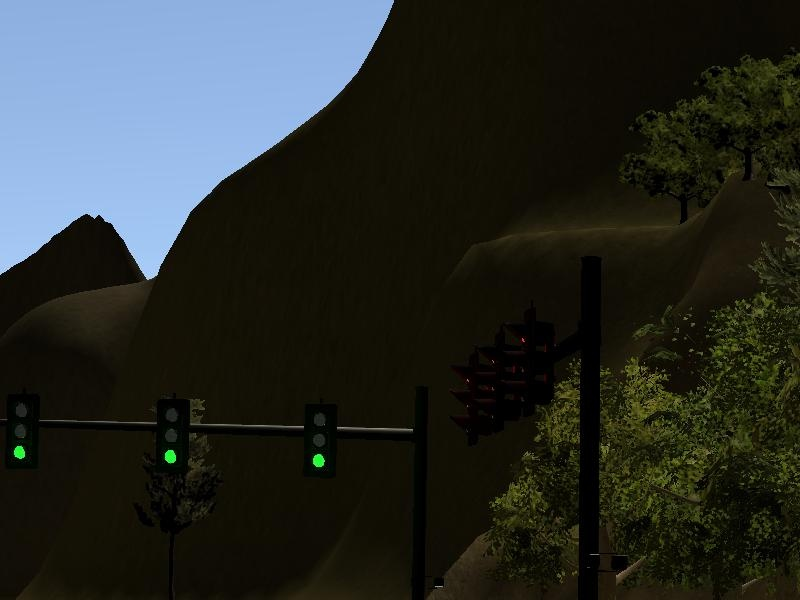GREEN: (155, 396, 190, 473), (302, 401, 337, 478), (4, 392, 39, 469)
